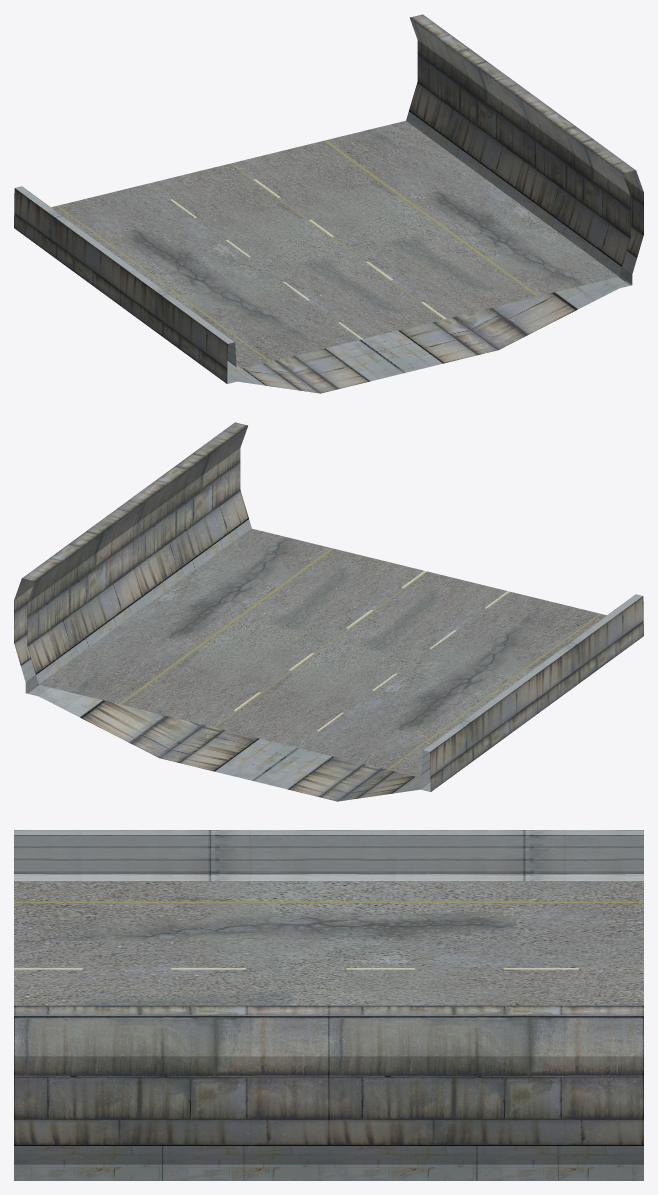
The model's file is Highway_Road_Part_05.fbx.
3 renders of one model, top to bottom at view 1: azimuth 30°, elevation 25°; view 2: azimuth 150°, elevation 25°; view 3: azimuth 270°, elevation 25°, orthographic. The views are drawn at different scales.
Parts seen in each view (by area): view 1: Highway_Road_Part_05; view 2: Highway_Road_Part_05; view 3: Highway_Road_Part_05.
Boxes of the visible parts, bbox=[...] form: Highway_Road_Part_05: bbox=[14, 14, 643, 393]; Highway_Road_Part_05: bbox=[14, 422, 643, 801]; Highway_Road_Part_05: bbox=[14, 830, 643, 1180].
Size of the model in its own units: 1492 by 500 by 1322.
